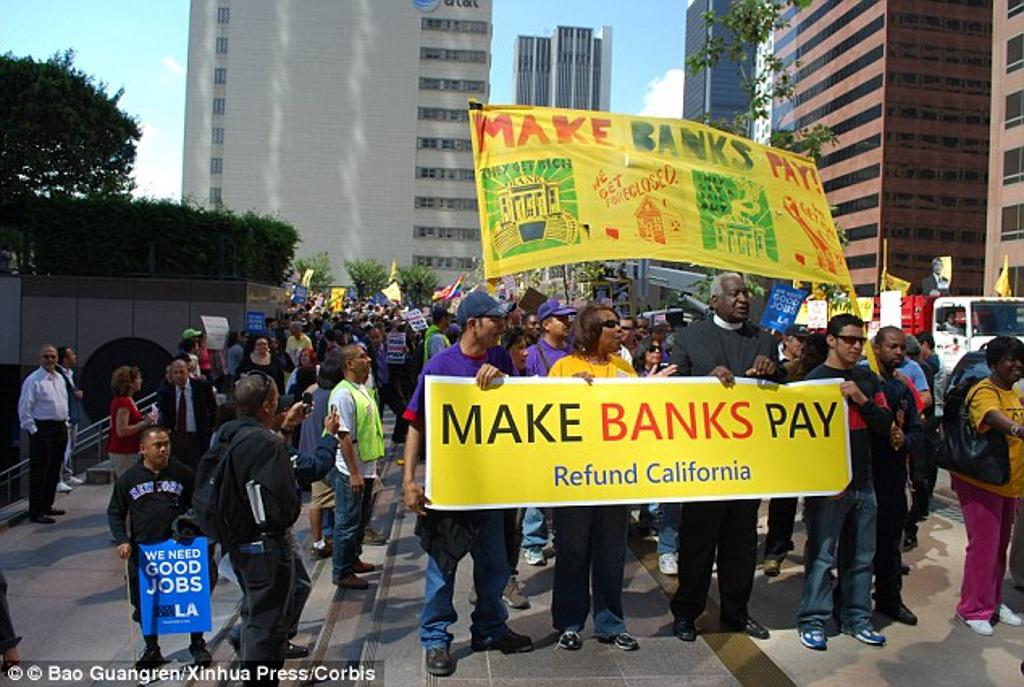face: (722, 274, 752, 321), (596, 308, 626, 354), (475, 312, 505, 348), (840, 322, 865, 365), (882, 331, 907, 369), (998, 350, 1024, 382), (148, 432, 172, 466), (510, 338, 531, 372), (547, 310, 572, 338), (351, 348, 375, 377), (264, 381, 281, 420), (524, 315, 544, 339), (615, 319, 634, 344), (647, 337, 663, 366), (173, 363, 189, 387), (41, 349, 60, 369), (635, 317, 650, 339), (791, 332, 805, 355), (132, 370, 145, 393), (369, 331, 385, 349), (440, 309, 453, 329), (254, 337, 269, 354), (299, 350, 313, 367), (65, 349, 78, 366), (165, 365, 176, 384), (289, 323, 301, 339), (917, 339, 926, 358), (270, 337, 279, 350), (947, 311, 957, 322), (324, 335, 332, 347), (271, 320, 277, 327)
